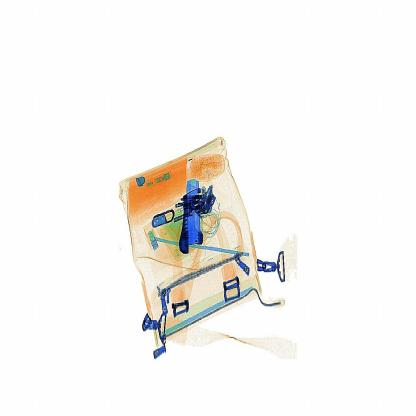pliers: (177, 174, 211, 256)
